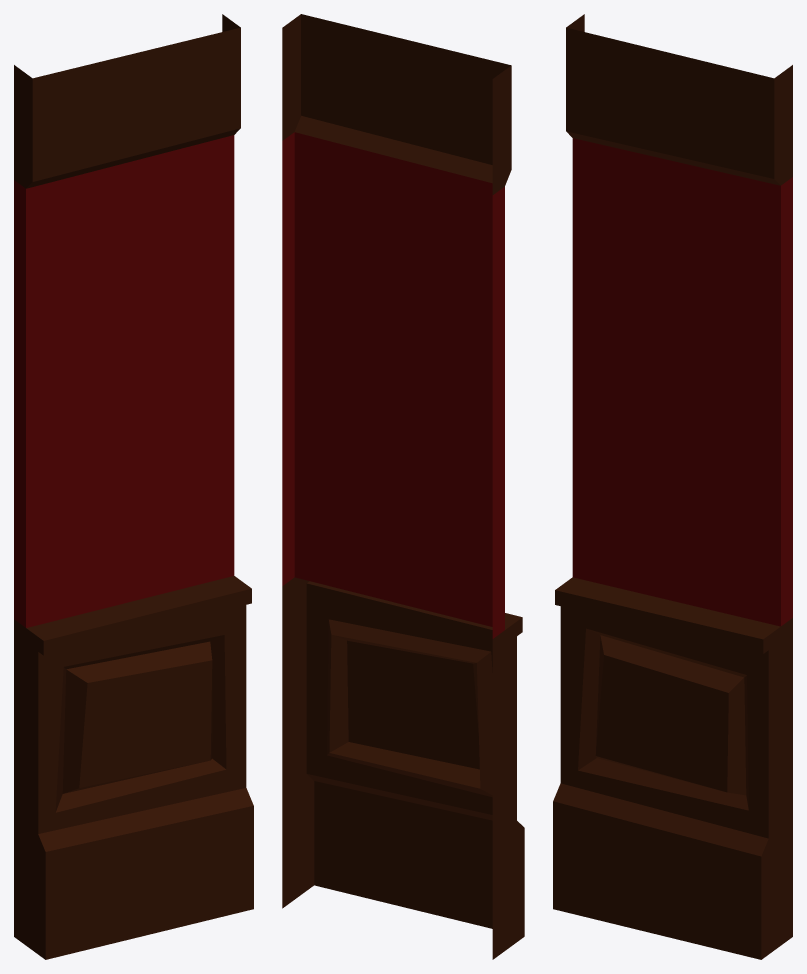
The model's file is WallTest.FBX.
3 renders of one model, left to right at view 1: azimuth 30°, elevation 25°; view 2: azimuth 150°, elevation 25°; view 3: azimuth 330°, elevation 25°, orthographic.
Parts seen in each view (by area): view 1: Plane002; view 2: Plane002; view 3: Plane002.
Boxes of the visible parts, <box> form: Plane002: <box>14,14,253,959</box>; Plane002: <box>282,14,524,959</box>; Plane002: <box>553,14,792,959</box>.
Bounding box in the file's own units: 39.37 × 158 × 10.3.
